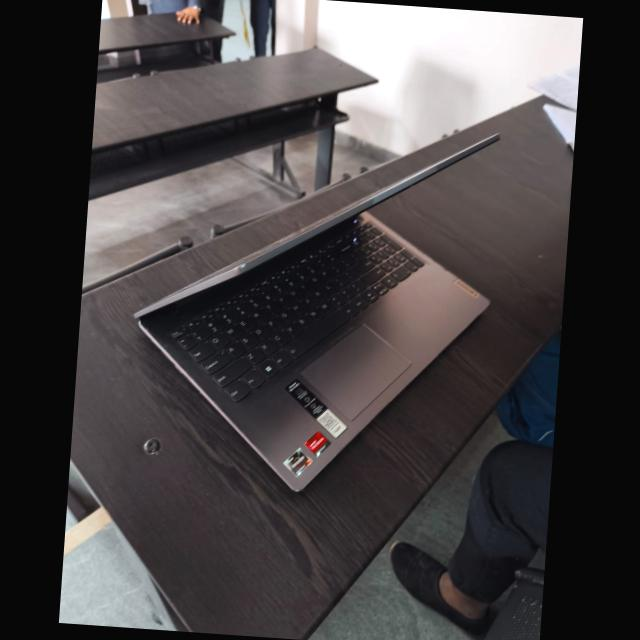laptop: (133, 134, 497, 489)
